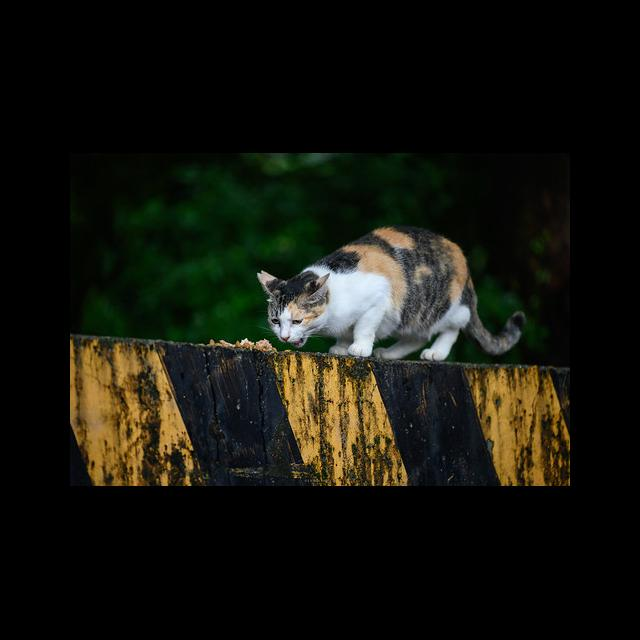animals: (257, 227, 525, 361)
